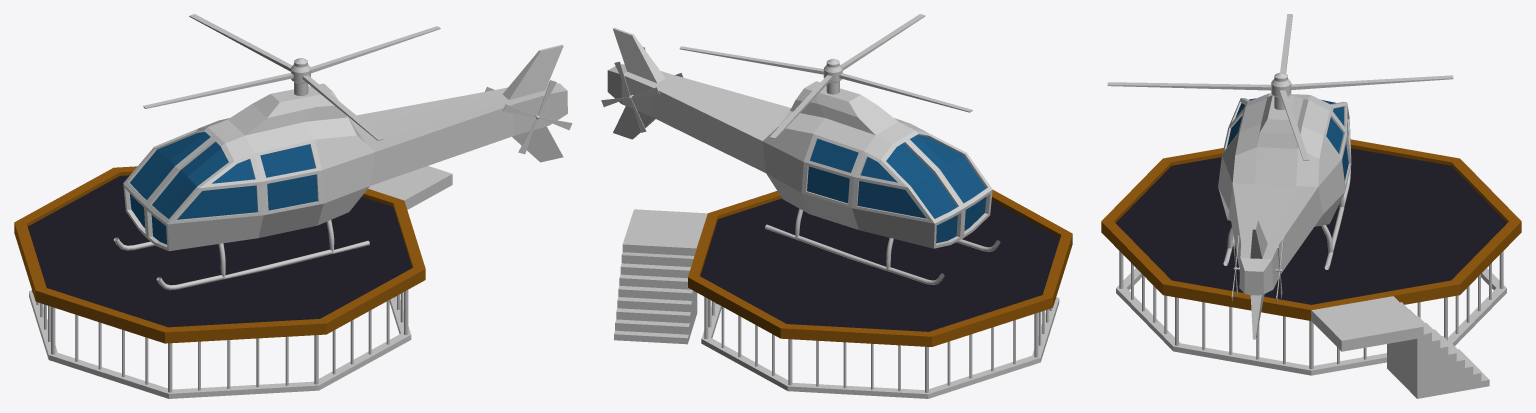
File: copter_000213.obj
3 views of the same model, side by side, from view 1: azimuth 30°, elevation 25°; view 2: azimuth 150°, elevation 25°; view 3: azimuth 270°, elevation 25° (orthographic). The views are drawn at different scales.
Parts seen in each view (by area): view 1: Cylinder.001_Cylinder.012, Helicopter.007_Cylinder.008, Helicopter.001_Cylinder.001, Cylinder.004, Cylinder.003_Cylinder.005, Cylinder.002, Helicopter.003_Cylinder.004; view 2: Cylinder.001_Cylinder.012, Helicopter.007_Cylinder.008, Helicopter.001_Cylinder.001, Cylinder.004, Cylinder.003_Cylinder.005, Cylinder.002, Helicopter.004_Cylinder.005; view 3: Cylinder.001_Cylinder.012, Helicopter.007_Cylinder.008, Helicopter.001_Cylinder.001, Cylinder.004, Cylinder.002, Cylinder.003_Cylinder.005.
Part boxes in pixels (<box>): Cylinder.001_Cylinder.012: <box>14,166,452,398</box>; Helicopter.007_Cylinder.008: <box>113,44,567,290</box>; Helicopter.001_Cylinder.001: <box>143,14,440,140</box>; Cylinder.004: <box>198,300,389,390</box>; Cylinder.003_Cylinder.005: <box>36,292,403,384</box>; Cylinder.002: <box>32,290,408,392</box>; Helicopter.003_Cylinder.004: <box>503,80,572,154</box>; Cylinder.001_Cylinder.012: <box>614,190,1072,398</box>; Helicopter.007_Cylinder.008: <box>607,27,1000,284</box>; Helicopter.001_Cylinder.001: <box>679,14,972,138</box>; Cylinder.004: <box>721,306,900,391</box>; Cylinder.003_Cylinder.005: <box>708,299,1052,385</box>; Cylinder.002: <box>704,297,1056,392</box>; Helicopter.004_Cylinder.005: <box>601,61,659,132</box>; Cylinder.001_Cylinder.012: <box>1101,139,1521,398</box>; Helicopter.007_Cylinder.008: <box>1218,93,1351,339</box>; Helicopter.001_Cylinder.001: <box>1107,14,1453,160</box>; Cylinder.004: <box>1131,263,1491,333</box>; Cylinder.002: <box>1119,251,1503,369</box>; Cylinder.003_Cylinder.005: <box>1202,302,1420,364</box>.
Size of the model in its own units: 9.18 by 4.47 by 6.77.
